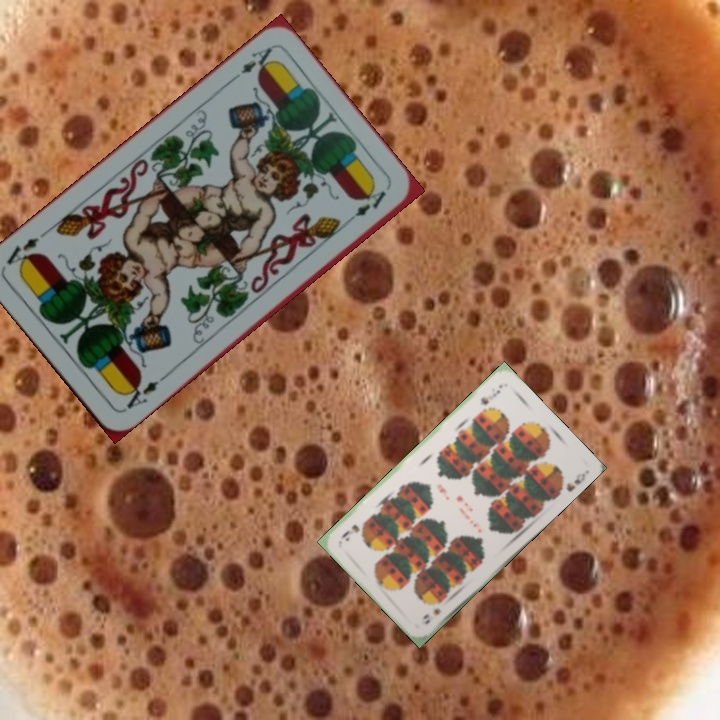EA: (119, 371, 169, 414), (226, 43, 276, 85)
S9: (476, 380, 505, 408), (419, 604, 444, 627)
